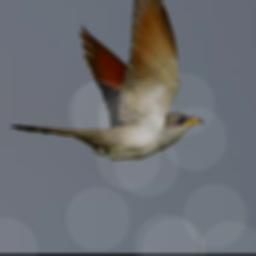Cuckoo: (10, 0, 203, 157)
